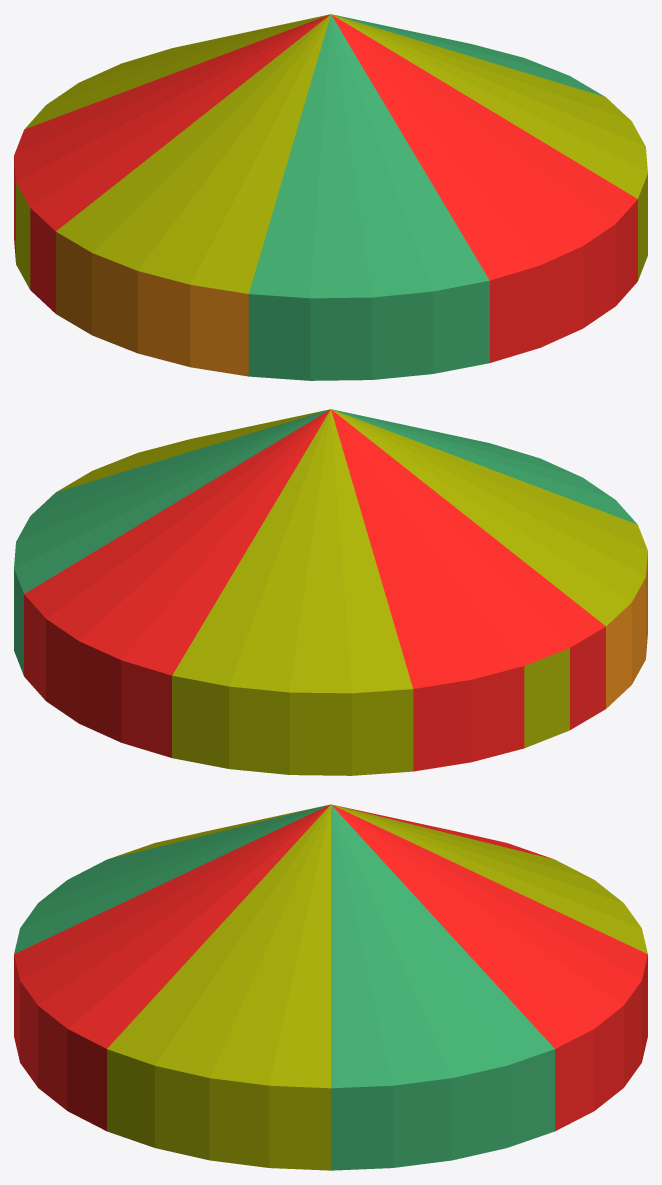
Rendered from umberellatop.obj.
The picture shows the model from 3 angles, top to bottom: view 1: azimuth 30°, elevation 25°; view 2: azimuth 150°, elevation 25°; view 3: azimuth 270°, elevation 25°; orthographic projection.
Visible parts, largest first — view 1: Cylinder; view 2: Cylinder; view 3: Cylinder.
Part boxes in pixels (x1=…): Cylinder: x1=14, y1=14, x2=647, y2=380; Cylinder: x1=14, y1=409, x2=647, y2=775; Cylinder: x1=14, y1=804, x2=647, y2=1170.
Bounding box in the file's own units: 6 × 2.43 × 6.
